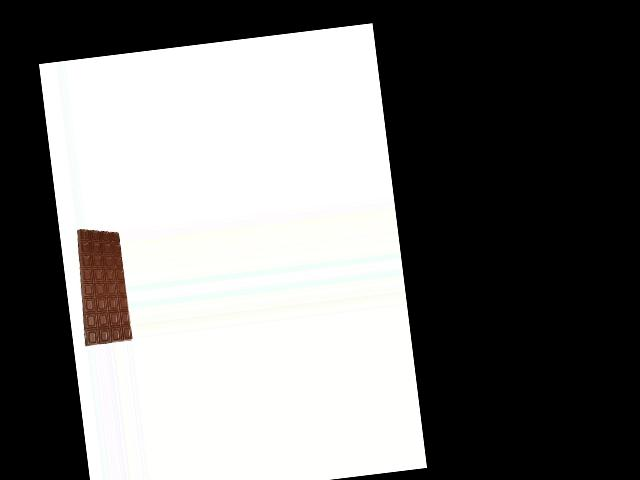chocolate: (72, 223, 132, 347)
